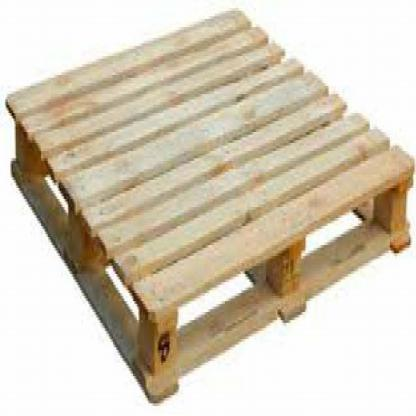BoxFace: (2, 4, 414, 408)
